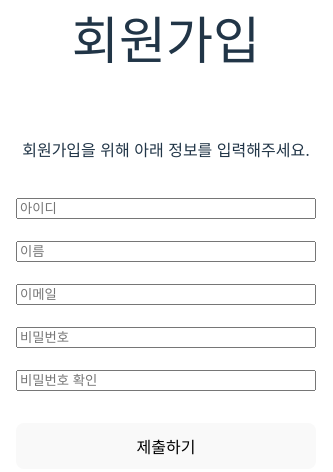
it: name field validation - required
In the field with placeholder "이름": (166, 252) [16,241,316,262], type "abc"
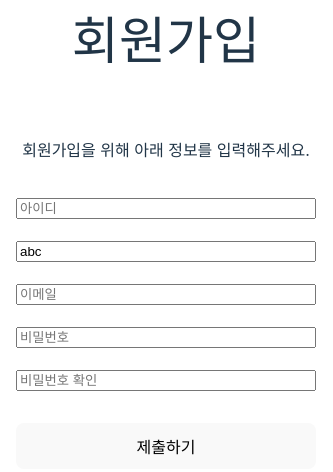
Clear the field with placeholder "이름": (166, 252) [16,241,316,262]
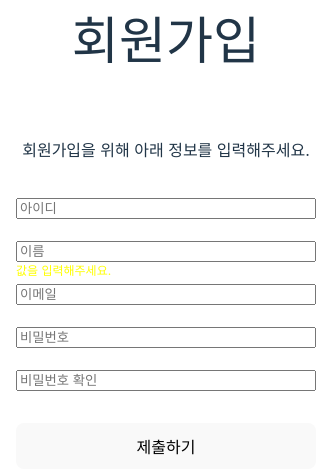
Check: the text "값을 입력해주세요." is shown, box [16,262,111,274]
